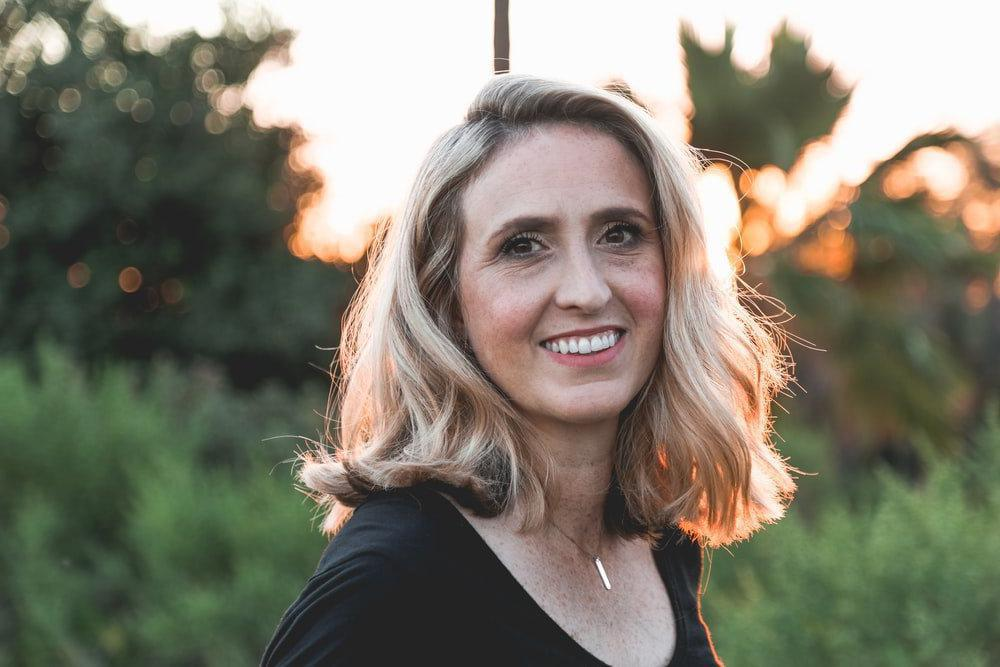Sober: (471, 140, 662, 408)
